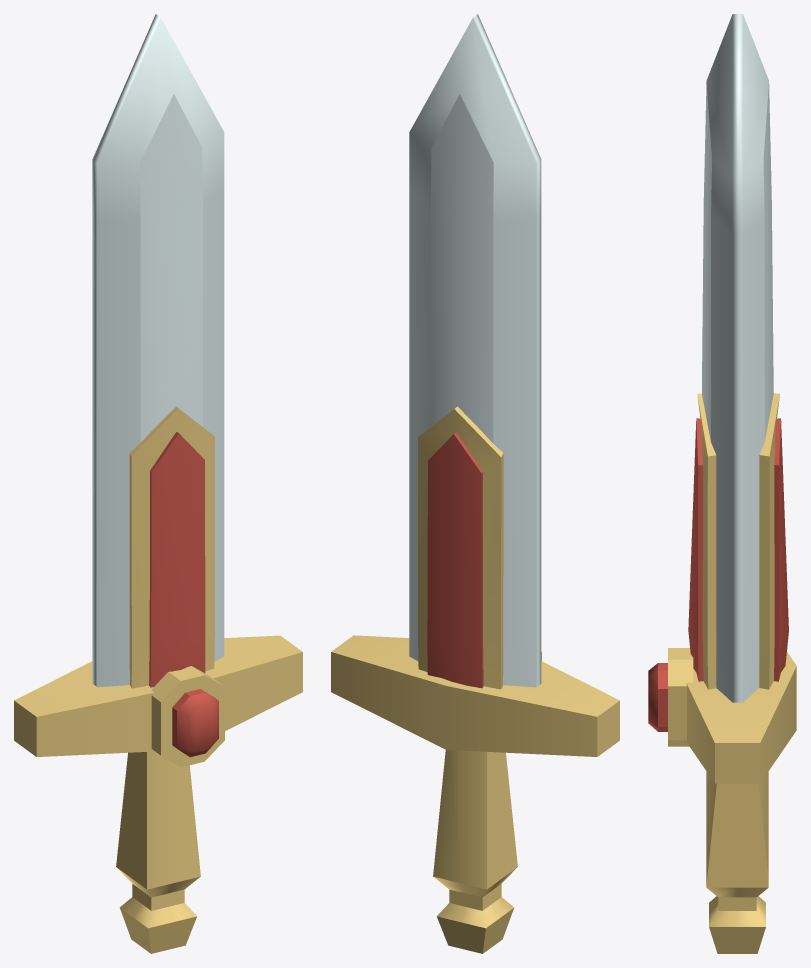
File: sword_parts.fbx
3 views of the same model, side by side, from view 1: azimuth 30°, elevation 25°; view 2: azimuth 150°, elevation 25°; view 3: azimuth 270°, elevation 25° (orthographic).
Parts seen in each view (by area): view 1: blade, yellow, red; view 2: blade, yellow, red; view 3: blade, yellow, red.
Boxes of the visible parts, box(x1,y1,x2,y2) form: blade: box(92, 14, 224, 687); yellow: box(14, 406, 302, 953); red: box(149, 432, 218, 757); blade: box(409, 14, 541, 687); yellow: box(331, 406, 619, 953); red: box(427, 432, 483, 688); blade: box(702, 14, 773, 702); yellow: box(668, 393, 796, 953); red: box(648, 418, 788, 731).
Bounding box in the file's own units: 1.19 × 3.94 × 0.5701.
